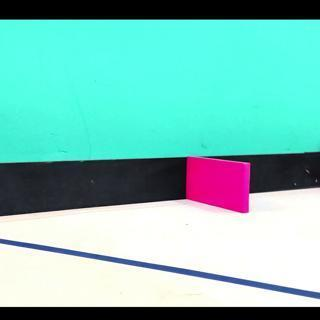xparking: (189, 165, 247, 214)
